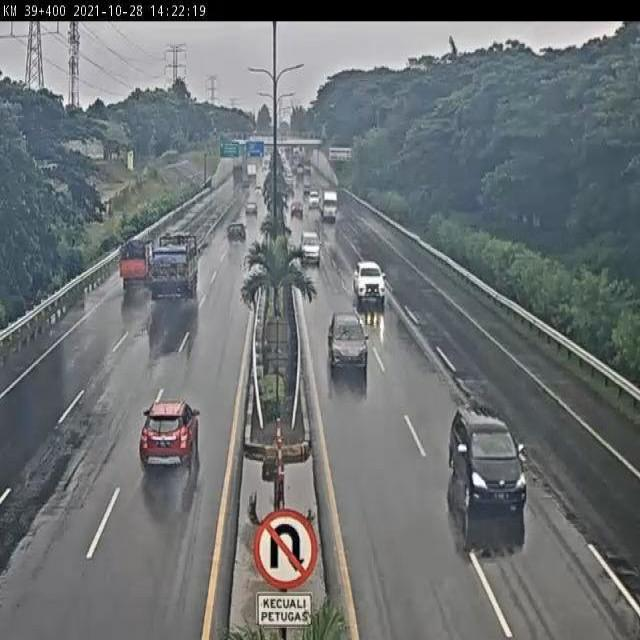car: (448, 404, 529, 511), (136, 400, 201, 472), (328, 312, 371, 375), (350, 259, 389, 305), (298, 230, 323, 266), (224, 222, 246, 250), (243, 200, 258, 223), (289, 198, 305, 218)
small truck: (118, 233, 157, 290)
truck-l-: (146, 230, 201, 302)
truck-s-: (318, 188, 339, 221)
